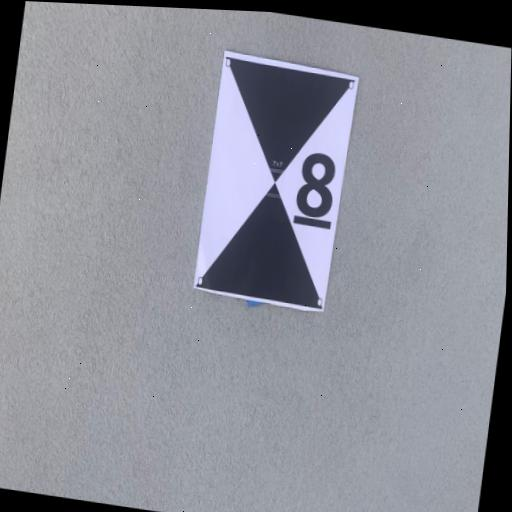target8: (193, 51, 358, 313)
